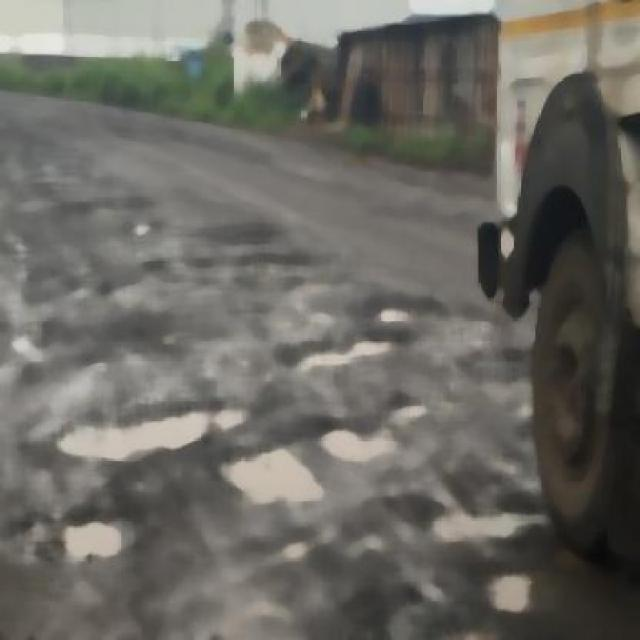Pothole: (420, 502, 528, 640), (80, 406, 212, 482), (22, 513, 146, 567), (313, 406, 413, 463), (228, 437, 300, 501)
